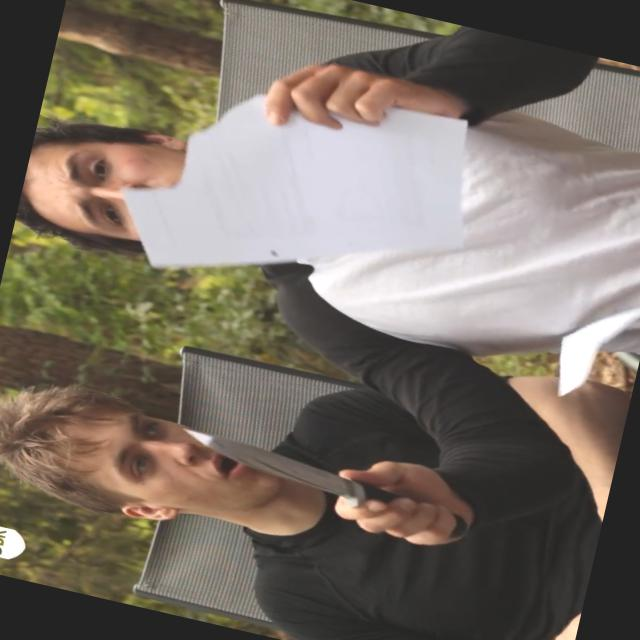knife: (160, 416, 472, 550)
